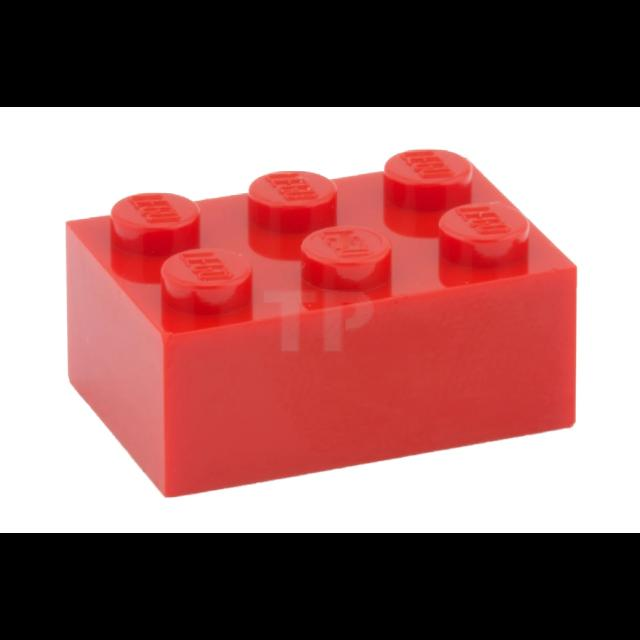2x3: (66, 149, 576, 496)
